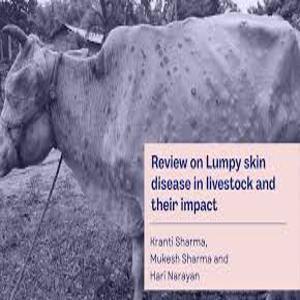lumpy skin diesease: (0, 11, 299, 299)
